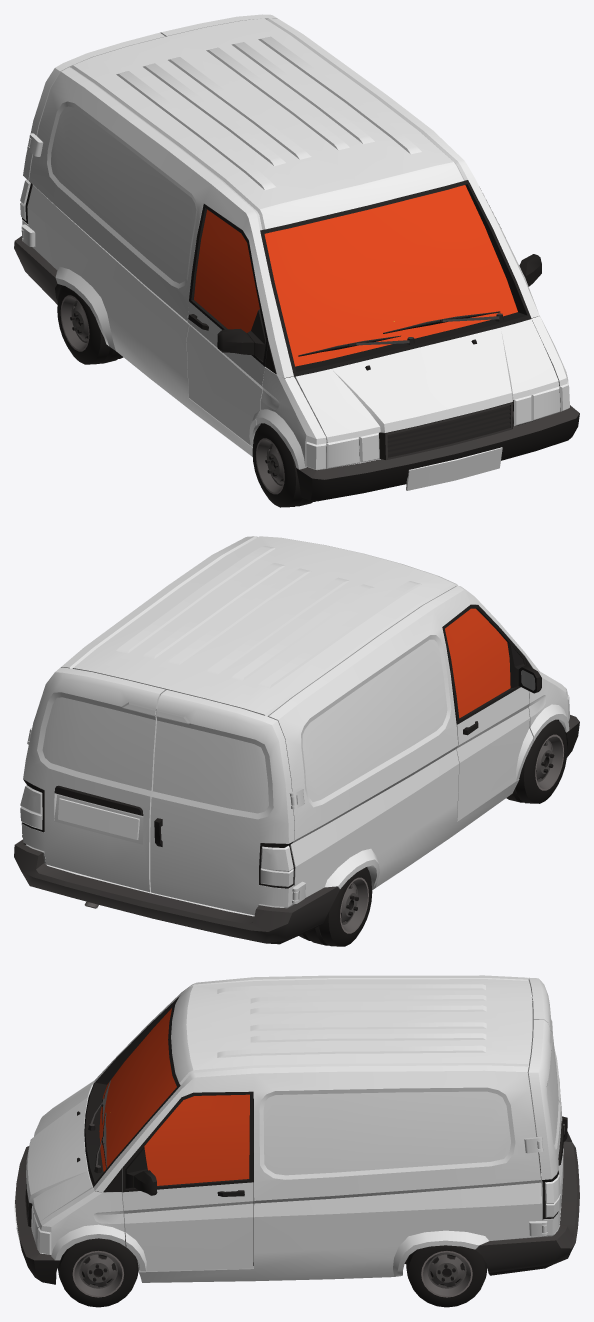
The model's file is car7.fbx.
3 views of the same model, one above another, from view 1: azimuth 30°, elevation 25°; view 2: azimuth 150°, elevation 25°; view 3: azimuth 270°, elevation 25° (orthographic). The views are drawn at different scales.
Visible parts, largest first — view 1: Body.004, Bonet.003, Doors_FR.002, Bumper_F.004, Grill_F.002, Fender_FR.004, Wheel_FR.004, Wheel_RR.004, Doors_RR.001, Headlights_FR.001, Bumper_R.004, Headlights_FL.001 (+3 smaller); view 2: Body.004, Doors_RR.001, Doors_RL.001, Doors_FR.002, Bumper_R.004, Wheel_FR.004, Wheel_RR.004, Fender_FR.004, Lights_RR.002, Lights_RL.002; view 3: Body.004, Doors_FL.002, Bonet.003, Bumper_R.004, Wheel_FL.004, Doors_RL.001, Wheel_RL.004, Fender_FL.004, Bumper_F.004, Doors_RR.001, Lights_RL.002, WindshieldWipers.004.
Part boxes in pixels (box(x1,y1,x2,y2)): Body.004: box(21, 18, 539, 461); Bonet.003: box(295, 319, 558, 442); Doors_FR.002: box(186, 204, 268, 446); Bumper_F.004: box(296, 405, 579, 501); Grill_F.002: box(379, 401, 513, 459); Fender_FR.004: box(256, 367, 326, 469); Wheel_FR.004: box(252, 422, 326, 507); Wheel_RR.004: box(57, 285, 123, 364); Doors_RR.001: box(21, 32, 165, 238); Headlights_FR.001: box(326, 433, 379, 468); Bumper_R.004: box(14, 236, 62, 304); Headlights_FL.001: box(513, 386, 560, 426); Body.004: box(21, 536, 539, 916); Doors_RR.001: box(150, 690, 298, 915); Doors_RL.001: box(22, 667, 165, 892); Doors_FR.002: box(442, 604, 541, 821); Bumper_R.004: box(14, 839, 339, 944); Wheel_FR.004: box(506, 719, 567, 803); Wheel_RR.004: box(299, 867, 372, 946); Fender_FR.004: box(528, 671, 569, 743); Lights_RR.002: box(259, 841, 294, 888); Lights_RL.002: box(20, 779, 44, 832); Body.004: box(84, 975, 561, 1282); Doors_FL.002: box(122, 1091, 253, 1271); Bonet.003: box(26, 1084, 92, 1225); Bumper_R.004: box(476, 1125, 579, 1275); Wheel_FL.004: box(58, 1235, 138, 1307); Doors_RL.001: box(528, 1019, 563, 1235); Wheel_RL.004: box(406, 1245, 487, 1307); Fender_FL.004: box(39, 1187, 125, 1260); Bumper_F.004: box(14, 1146, 60, 1284); Doors_RR.001: box(528, 977, 567, 1141); Lights_RL.002: box(542, 1170, 560, 1219); WindshieldWipers.004: box(88, 1080, 110, 1173).
Size of the model in its own units: 138 by 107 by 234.
